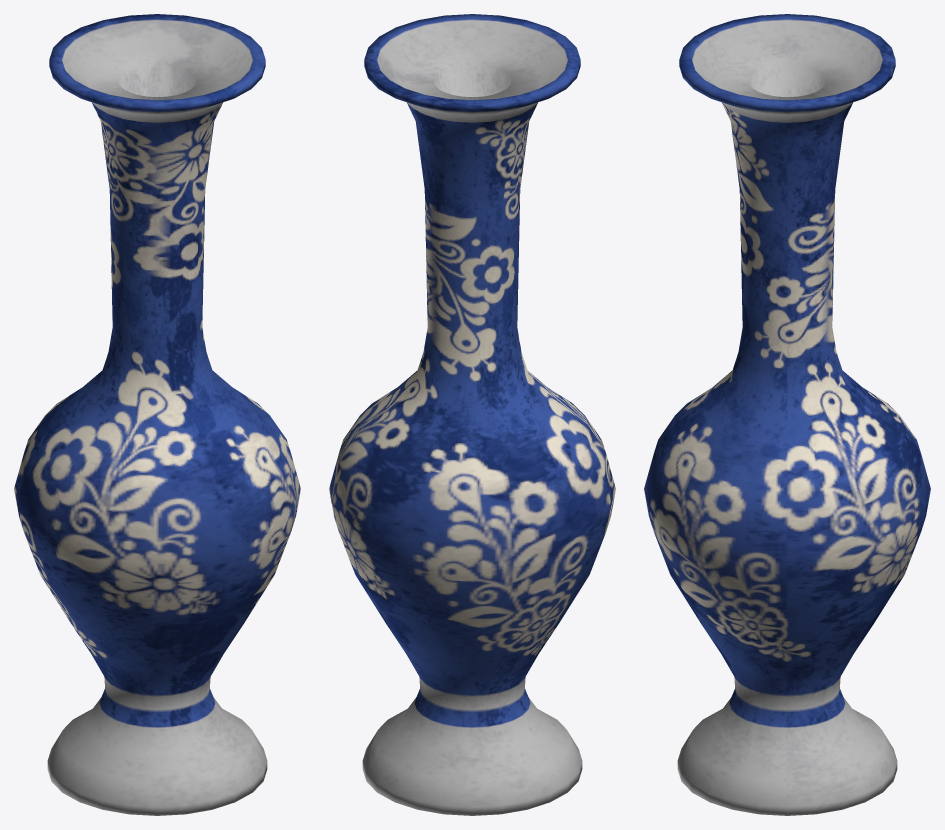
The model's file is SM_Vase_03.fbx.
The picture shows the model from 3 angles, left to right: view 1: azimuth 30°, elevation 25°; view 2: azimuth 150°, elevation 25°; view 3: azimuth 270°, elevation 25°; orthographic projection.
Parts seen in each view (by area): view 1: SM_Vase_03_LOD0; view 2: SM_Vase_03_LOD0; view 3: SM_Vase_03_LOD0.
Boxes of the visible parts, box(x1,y1,x2,y2) form: SM_Vase_03_LOD0: box(14, 14, 300, 815); SM_Vase_03_LOD0: box(329, 14, 615, 815); SM_Vase_03_LOD0: box(644, 14, 930, 815).
Size of the model in its own units: 26.22 by 26.22 by 71.58.
